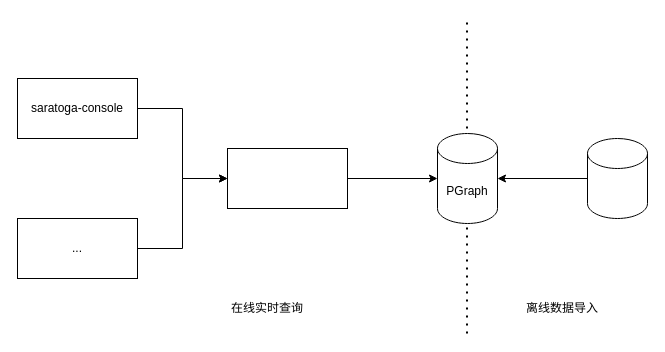
Image size: 665x352. Some labels were removed from this diagram. Each missing label, with the centre of its shape:
"hdsf" belongs at [617,178].
"redwood-api" belongs at [287,178].
